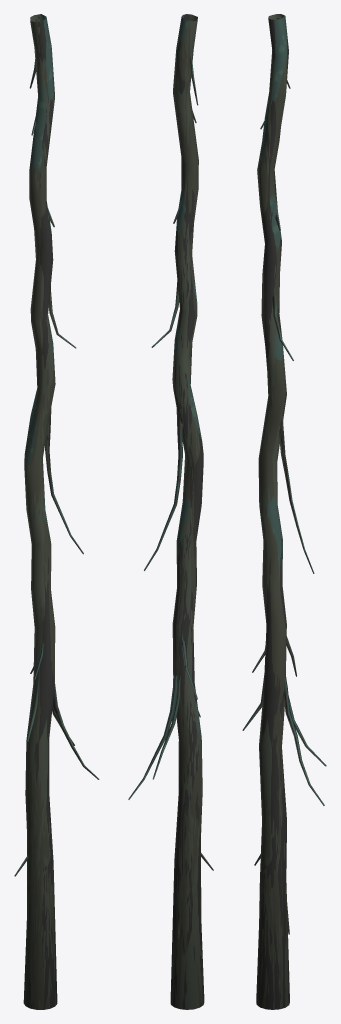
The model's file is TREE_A.fbx.
The picture shows the model from 3 angles, left to right: view 1: azimuth 30°, elevation 25°; view 2: azimuth 210°, elevation 25°; view 3: azimuth 330°, elevation 25°; orthographic projection.
Parts seen in each view (by area): view 1: TREE_A; view 2: TREE_A; view 3: TREE_A.
Part boxes in pixels (<box>): TREE_A: <box>14,14,99,1009</box>; TREE_A: <box>128,14,213,1009</box>; TREE_A: <box>242,14,326,1009</box>.
Bounding box in the file's own units: 244 × 2953 × 140.
